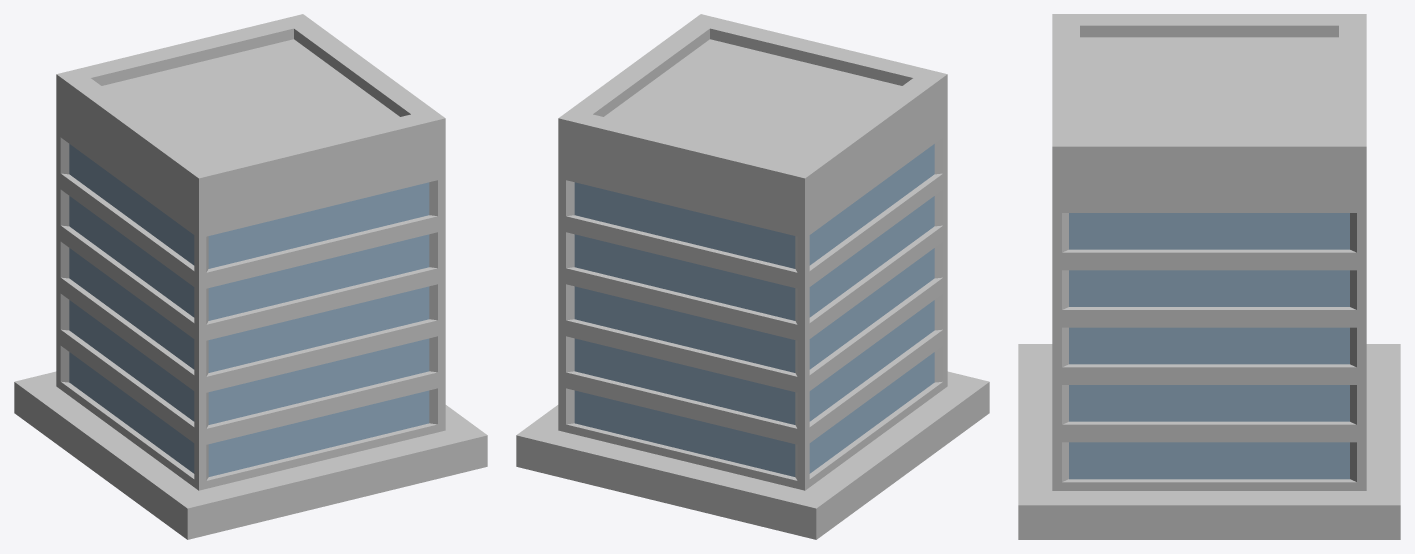
File: Building 1.fbx
3 renders of one model, left to right at view 1: azimuth 30°, elevation 25°; view 2: azimuth 150°, elevation 25°; view 3: azimuth 270°, elevation 25°, orthographic. The views are drawn at different scales.
Visible parts, largest first — view 1: Building 1; view 2: Building 1; view 3: Building 1.
Boxes of the visible parts, x1,y1,x2,y2 form: Building 1: (14,14,487,539); Building 1: (516,14,989,539); Building 1: (1018,14,1400,539).
Bounding box in the file's own units: 400 × 438 × 400.
